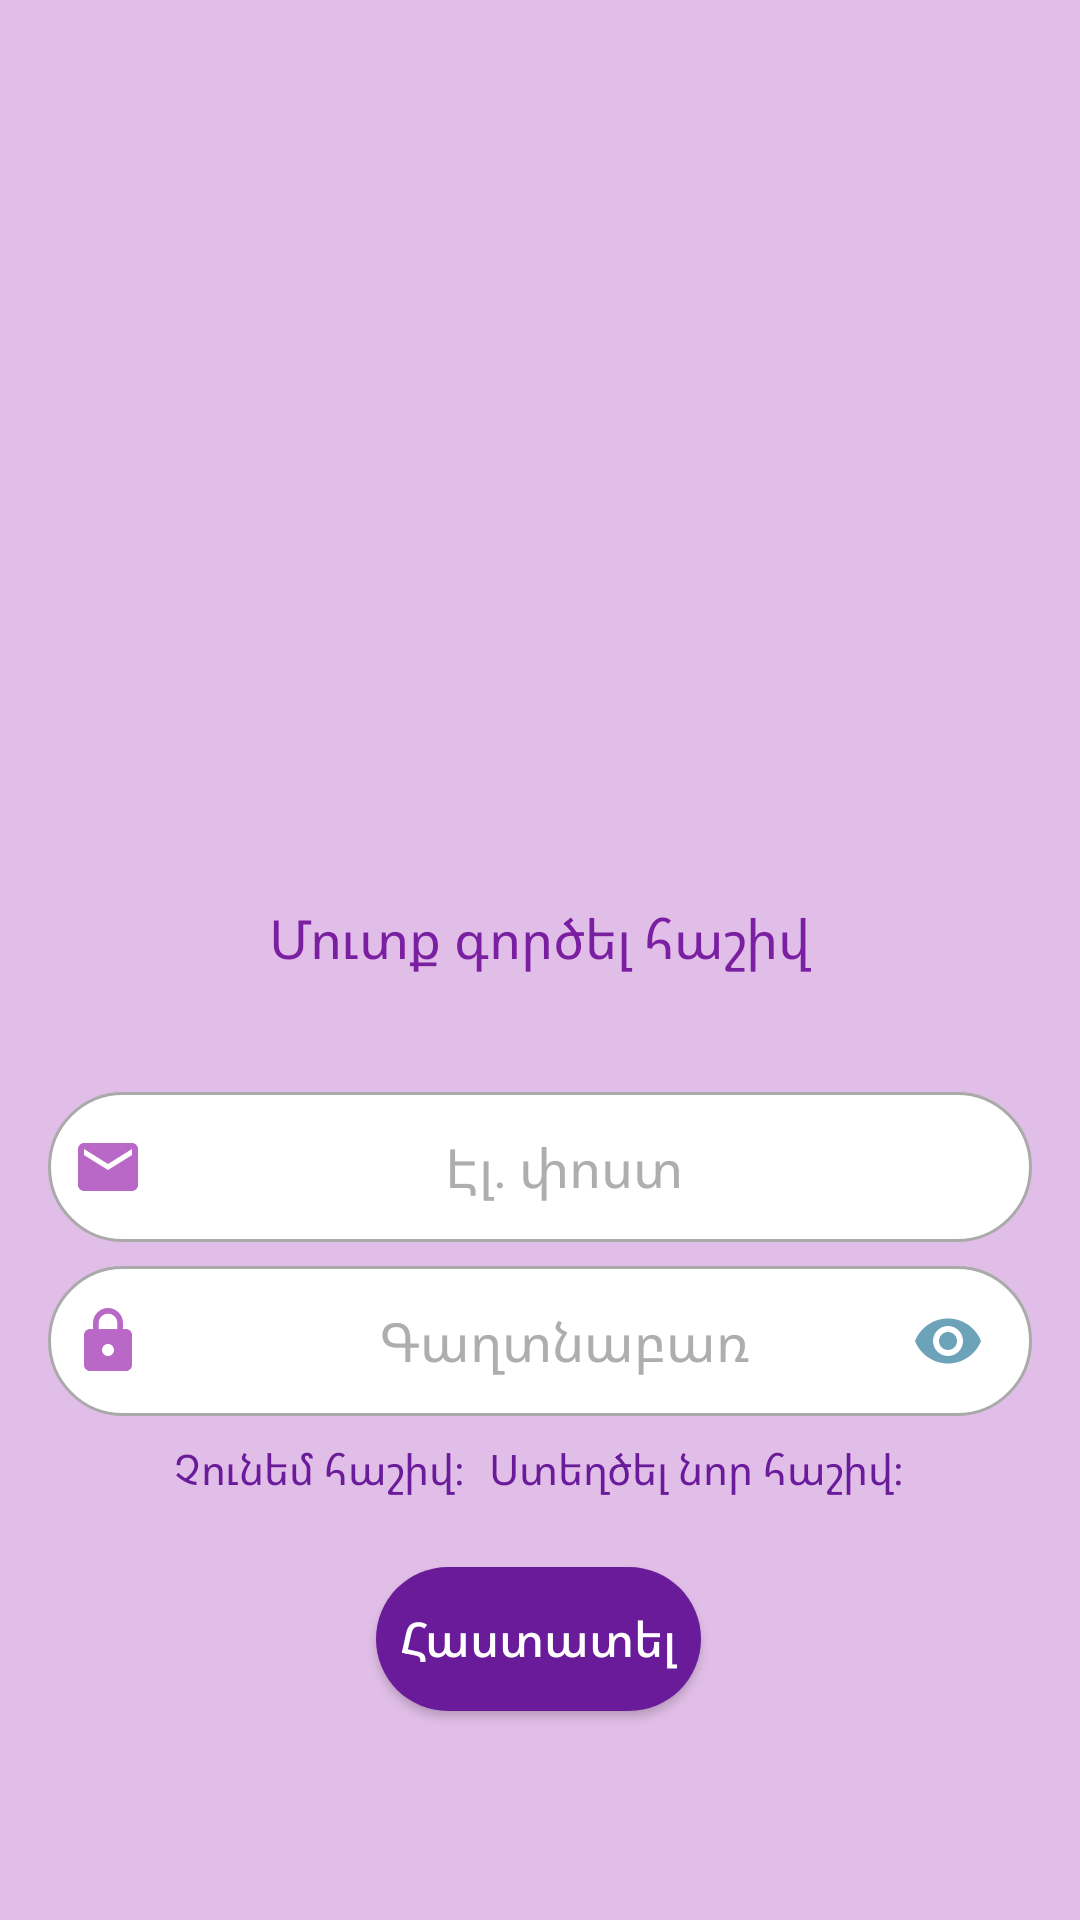

Locate icon controls on the screen. Image size 1080w x 1920h, boxes as [x1=x1, y1=y1, x2=x2, y2=y2].
visibility: [x1=915, y1=1318, x2=981, y2=1364]
